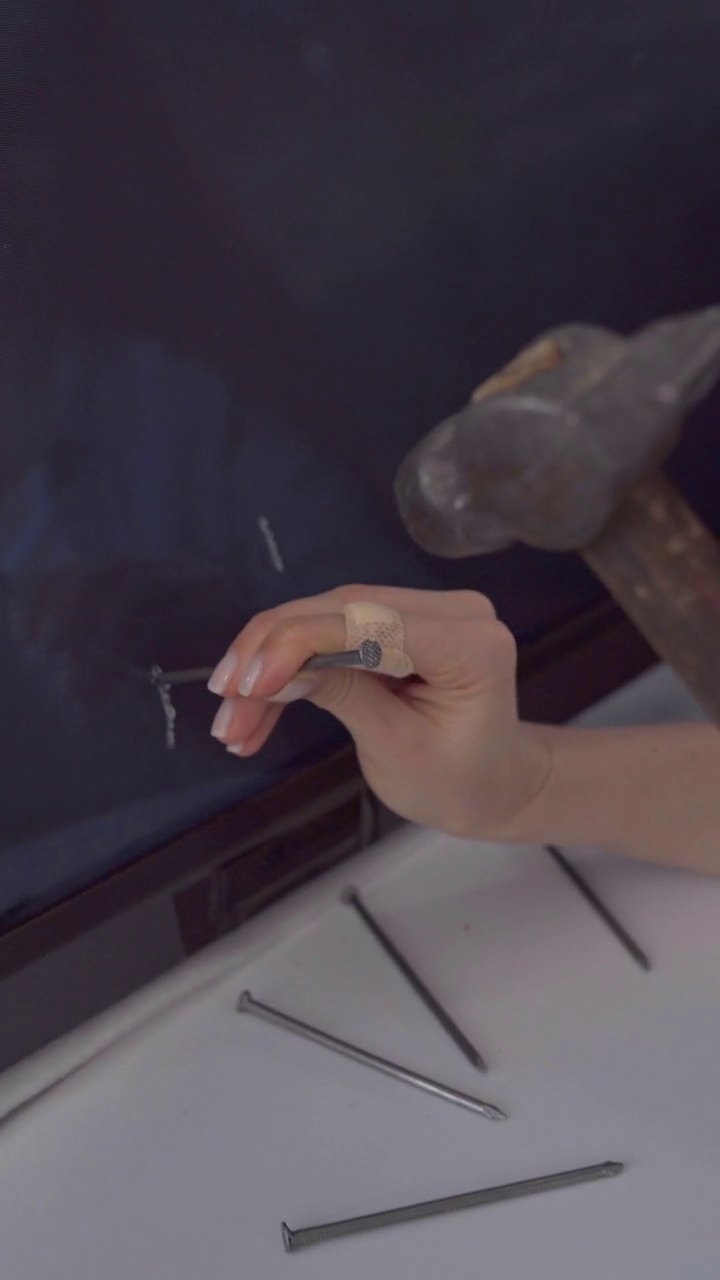hammer: (385, 300, 720, 740)
